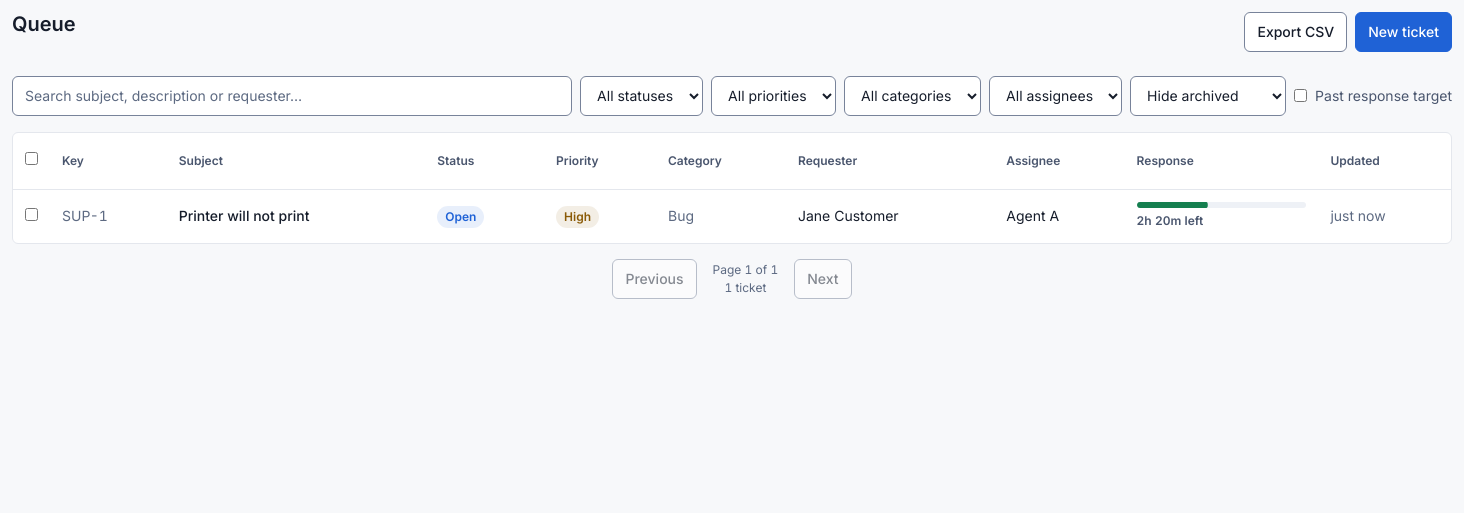
QueuePage › supervisor-only controls › reports a mixed bulk result and refreshes the table
Expected: the link "Printer will not print" is shown, [179,207,310,224]
Step 1. Click the checkbox named "Select SUP-1" → (32, 215), box [25,208,38,221]
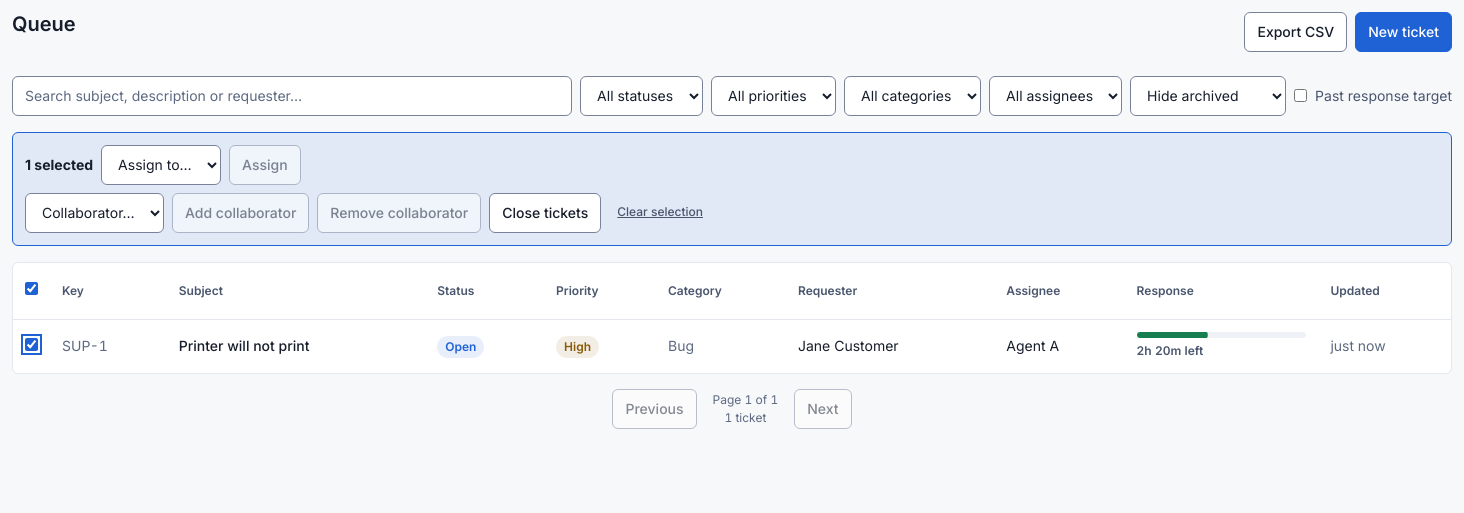
Expected: the text "1 selected" is shown, [25,154,93,176]
Step 2. Select "Agent Zed" in the dropdown named "Assign selected to" next to "selected" → (161, 165), box [101,145,221,185]
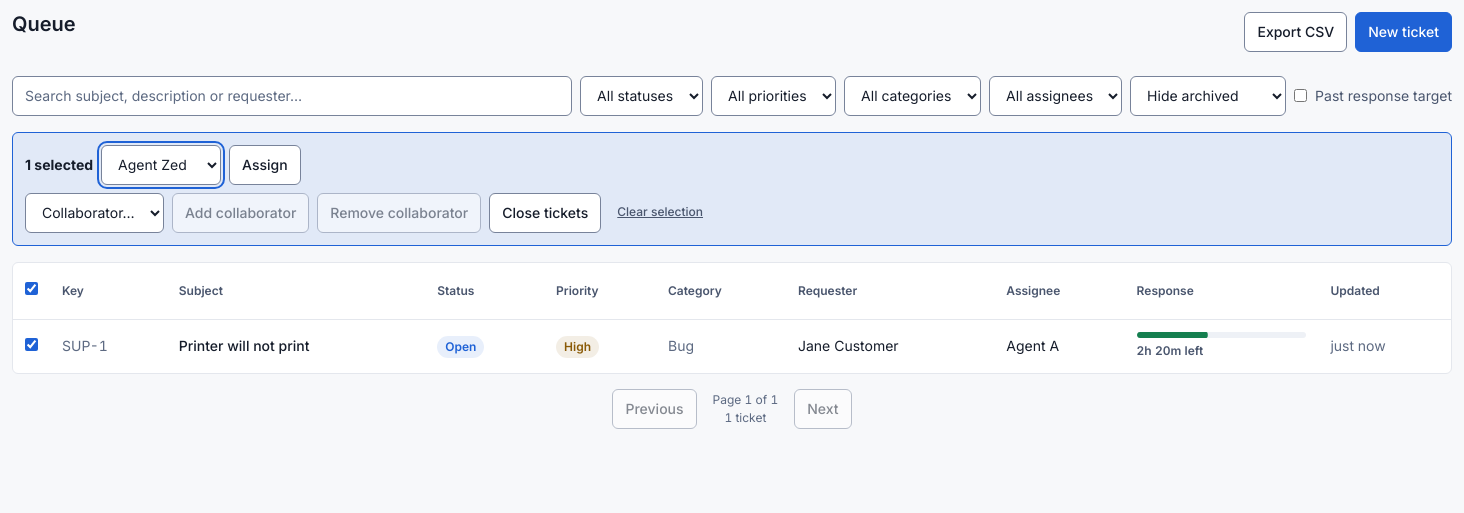
Step 3. Click the button "Assign" → (265, 165), box [229,145,301,184]
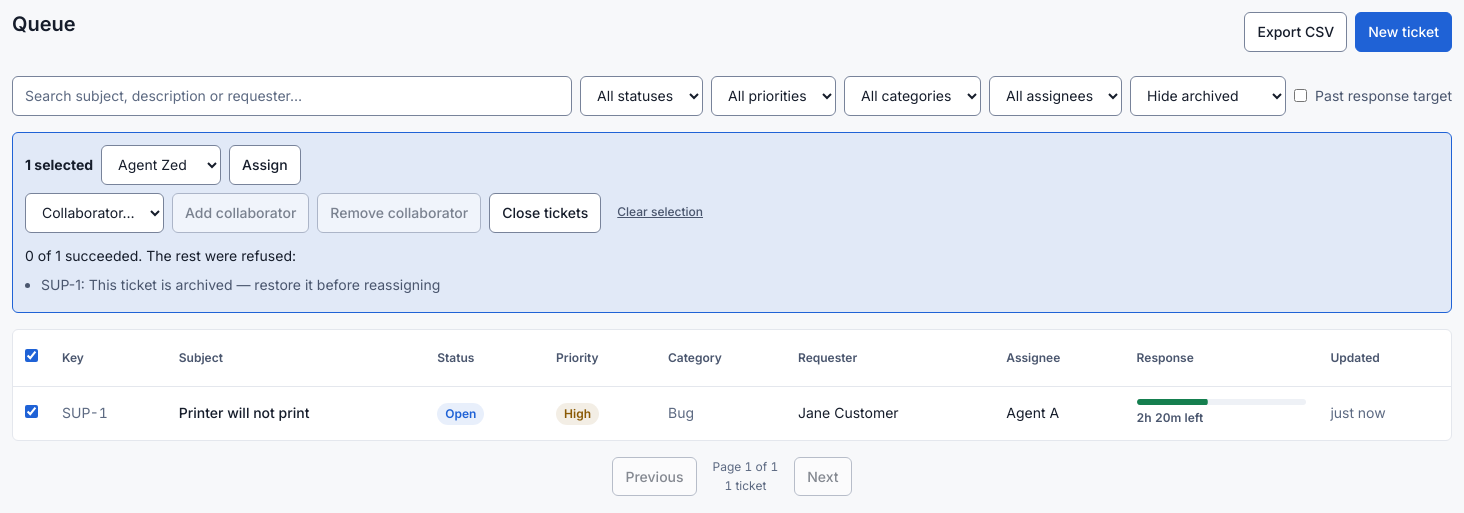
Expected: the text "0 of 1 succeeded. The rest were refused:" is shown, [25,247,296,264]
Expected: the list item "archived" is shown, [89,276,440,293]
